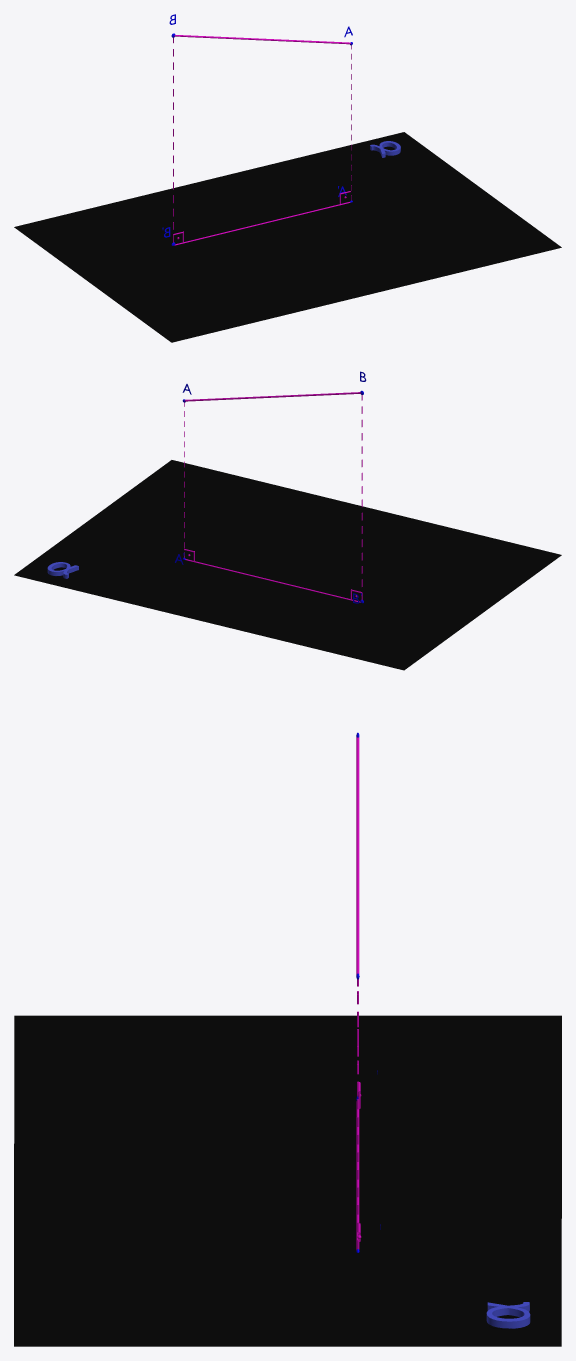
The picture shows the model from 3 angles, top to bottom: view 1: azimuth 30°, elevation 25°; view 2: azimuth 150°, elevation 25°; view 3: azimuth 270°, elevation 25°; orthographic projection. The views are drawn at different scales.
Parts seen in each view (by area): view 1: node_id5, node_id11; view 2: node_id5, node_id11; view 3: node_id5, mesh_id193, node_id11.
Part boxes in pixels (left/top/right/bottom): node_id5: left=14, top=132, right=561, bottom=342; node_id11: left=174, top=35, right=350, bottom=44; node_id5: left=14, top=460, right=561, bottom=670; node_id11: left=184, top=392, right=360, bottom=401; node_id5: left=14, top=1015, right=561, bottom=1346; mesh_id193: left=486, top=1302, right=530, bottom=1328; node_id11: left=356, top=737, right=359, bottom=975.
Size of the model in its own units: 0.512 by 0.297 by 0.3585.
22 materials, 22 textured.
